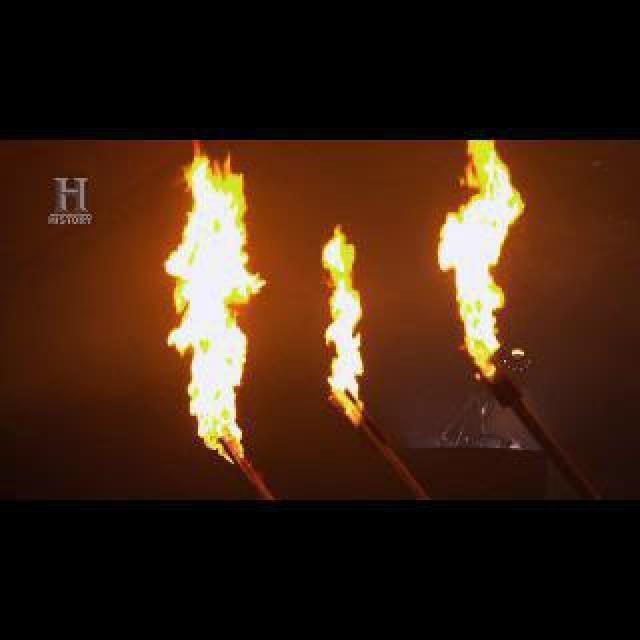fire: (175, 154, 267, 468), (438, 139, 526, 386), (323, 225, 369, 430)
